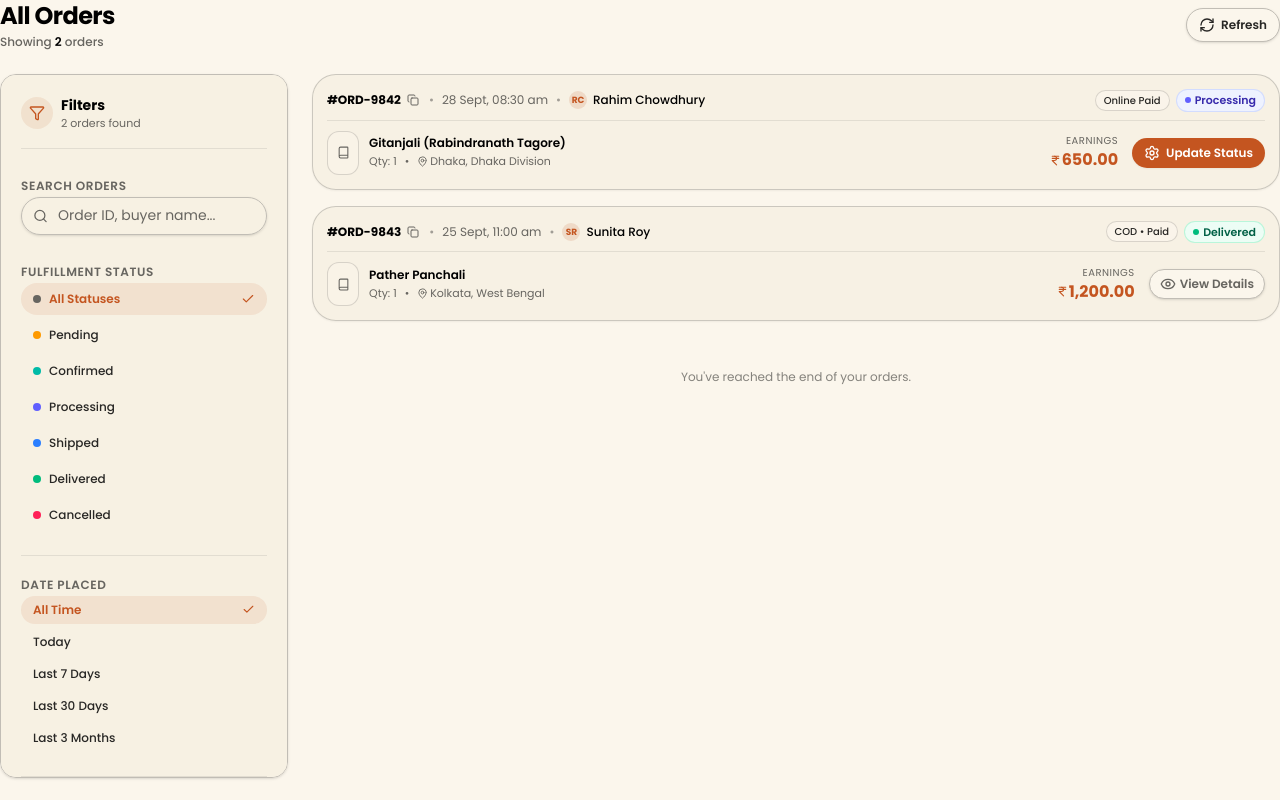
Test: Seller Orders View & Navigation › opens status dialog when Update Status button is clicked
The image size is (1280, 800).
Check: the text "#ORD-9842" is shown, box [327,92,401,108]
Click the button "Update Status": (1199, 152) [1132,138,1265,168]
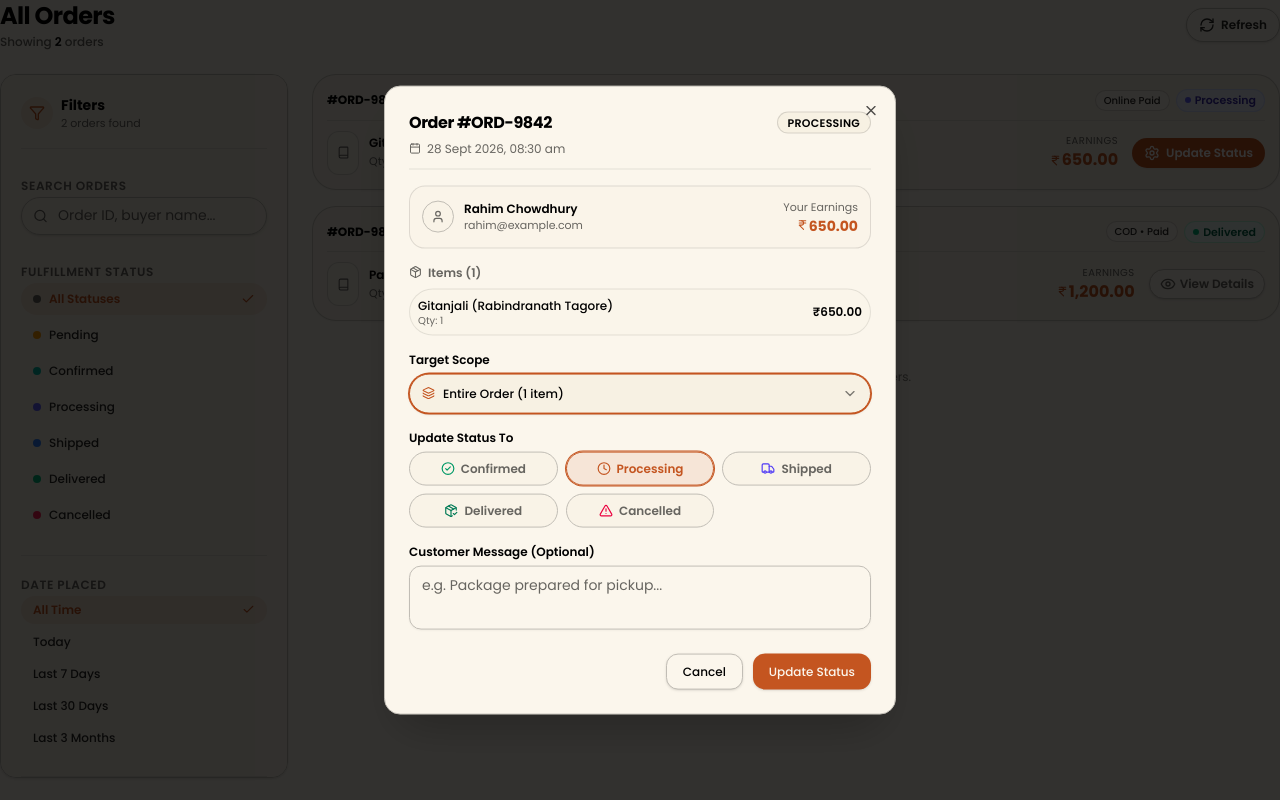
Check: the heading "Order #ORD-9842" is shown, box [409,111,552,135]
